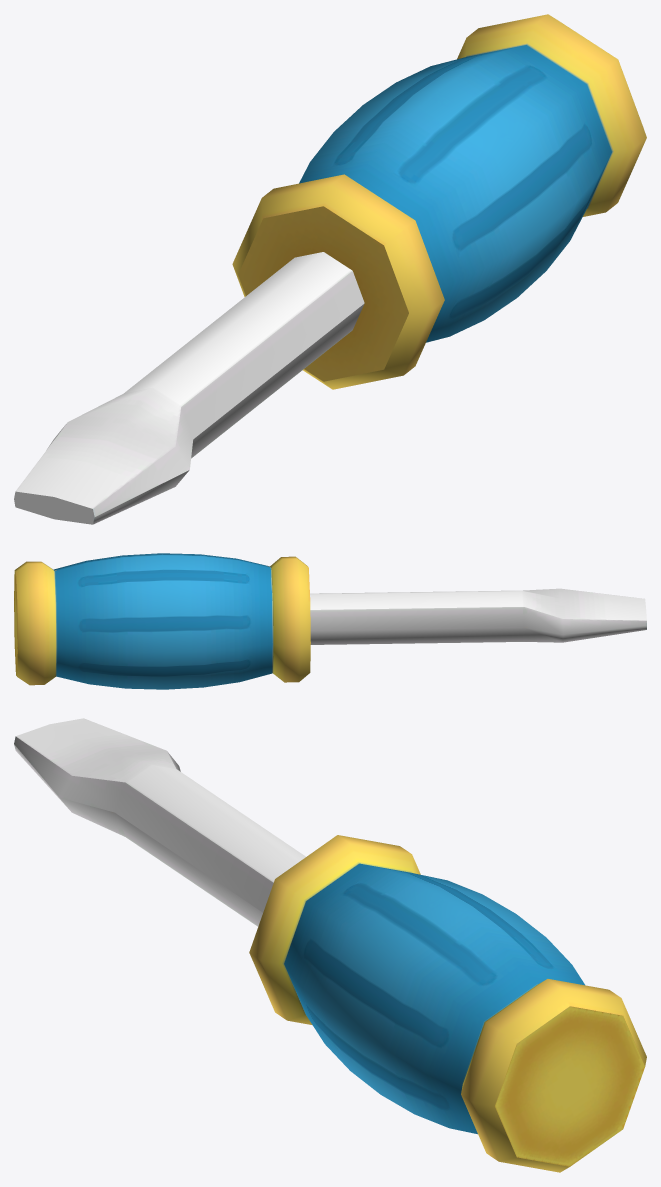
The model's file is driver.fbx.
The picture shows the model from 3 angles, top to bottom: view 1: azimuth 30°, elevation 25°; view 2: azimuth 150°, elevation 25°; view 3: azimuth 270°, elevation 25°; orthographic projection. The views are drawn at different scales.
Visible parts, largest first — view 1: driver; view 2: driver; view 3: driver.
Boxes of the visible parts, <box> form: driver: <box>14,14,646,524</box>; driver: <box>14,553,646,689</box>; driver: <box>14,718,646,1172</box>.
Size of the model in its own units: 0.4383 by 0.1099 by 0.3076.
1 material, 1 textured.
